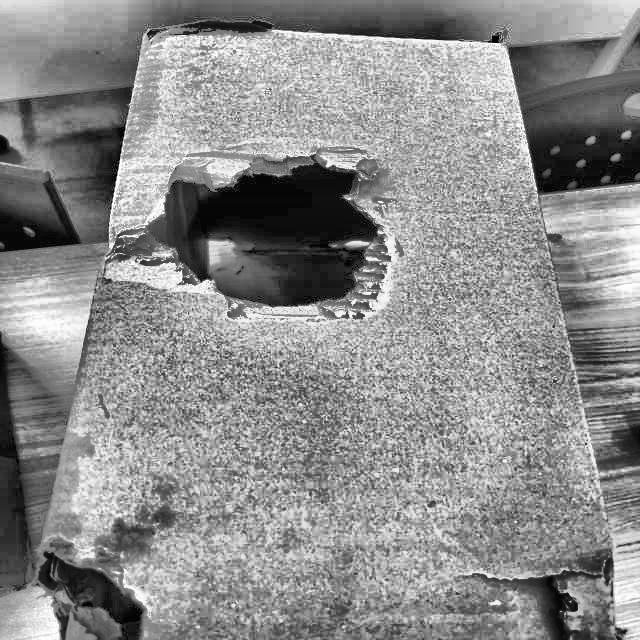box: (14, 6, 640, 639)
hole: (131, 148, 387, 326), (37, 538, 157, 640)
